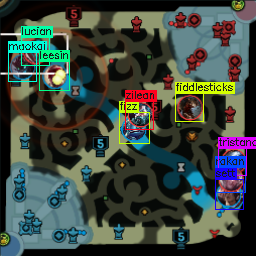fiddlesticks: (176, 94, 205, 120)
fizz: (121, 118, 145, 140)
leesin: (43, 65, 66, 88)
lucian: (24, 40, 49, 63)
maokai: (10, 53, 36, 80)
rakan: (218, 168, 245, 191)
sett: (216, 181, 241, 205)
tristana: (221, 149, 246, 172)
zilean: (127, 102, 153, 127)
